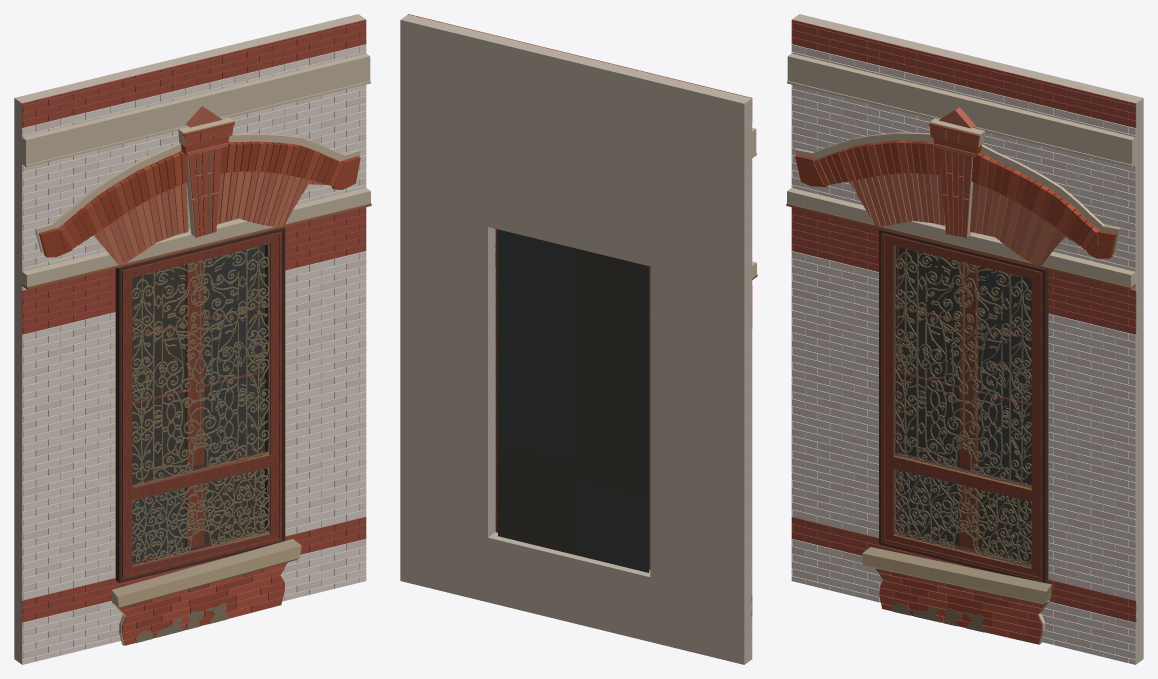
File: jingan-liang-residence-arched-iron-window-lod.glb
3 renders of one model, left to right at view 1: azimuth 30°, elevation 25°; view 2: azimuth 150°, elevation 25°; view 3: azimuth 330°, elevation 25°, orthographic.
Visible parts, largest first — view 1: 梁氏民宅的砖券铁花窗; view 2: 梁氏民宅的砖券铁花窗; view 3: 梁氏民宅的砖券铁花窗.
Boxes of the visible parts, x1,y1,x2,y2 form: 梁氏民宅的砖券铁花窗: (14, 14, 371, 664); 梁氏民宅的砖券铁花窗: (400, 14, 757, 664); 梁氏民宅的砖券铁花窗: (786, 14, 1143, 664).
Bounding box in the file's own units: 3.07 × 4.79 × 0.32.
Materials: 26 (1 with a texture image).
